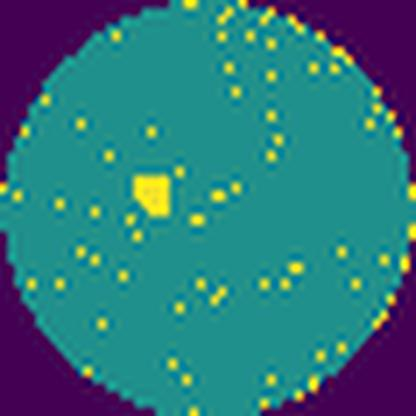Loc: (129, 173, 172, 221)
